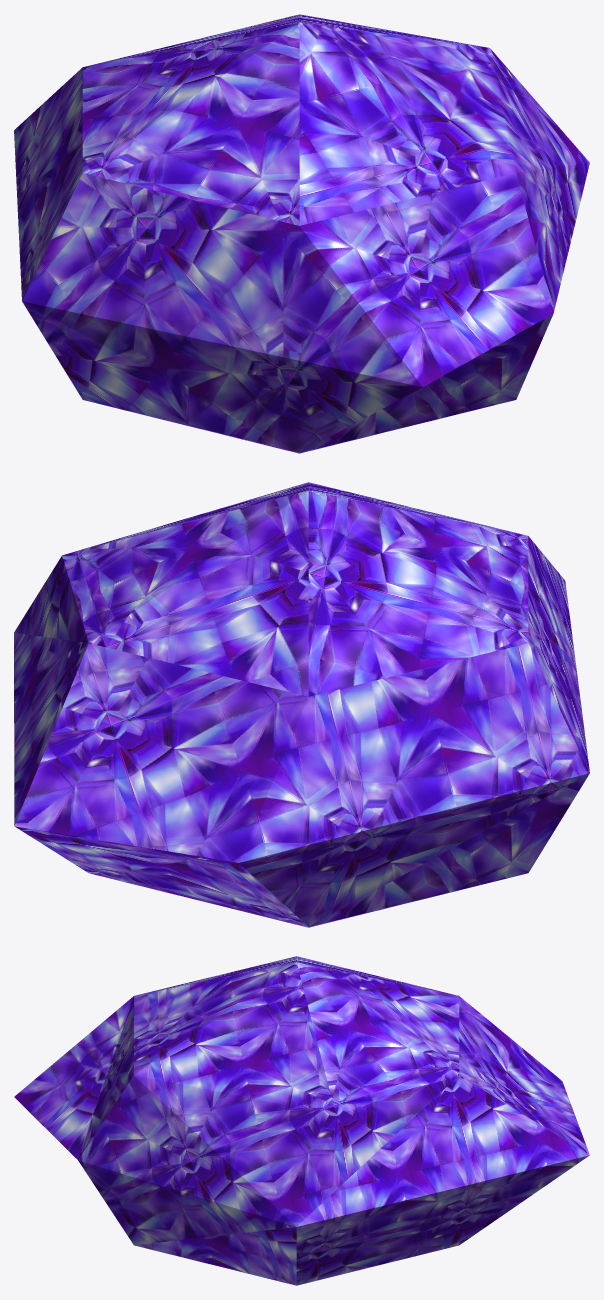
Rendered from Amethyst.dae.
The picture shows the model from 3 angles, top to bottom: view 1: azimuth 30°, elevation 25°; view 2: azimuth 150°, elevation 25°; view 3: azimuth 270°, elevation 25°; orthographic projection. The views are drawn at different scales.
Parts seen in each view (by area): view 1: SketchUp; view 2: SketchUp; view 3: SketchUp.
Boxes of the visible parts, box(x1,y1,x2,y2) form: SketchUp: box(14, 14, 589, 453); SketchUp: box(14, 482, 589, 927); SketchUp: box(14, 956, 589, 1285).
Size of the model in its own units: 103 by 121 by 74.8.
Materials: 1 (1 with a texture image).
